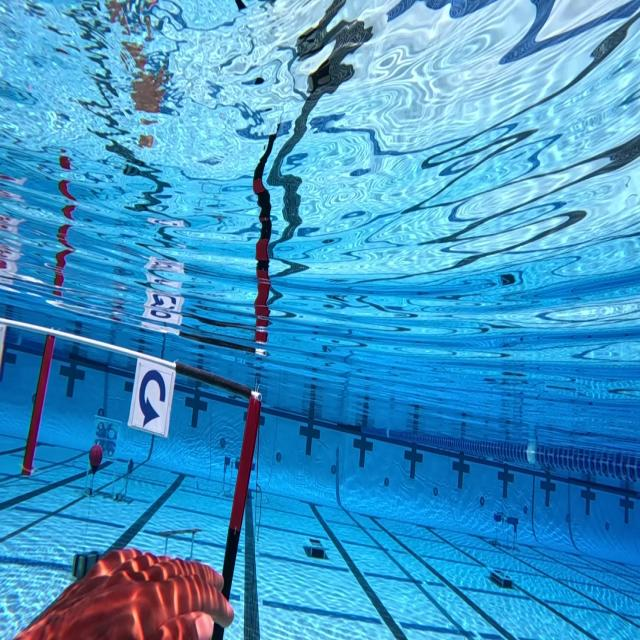blue_side: (128, 356, 178, 438)
